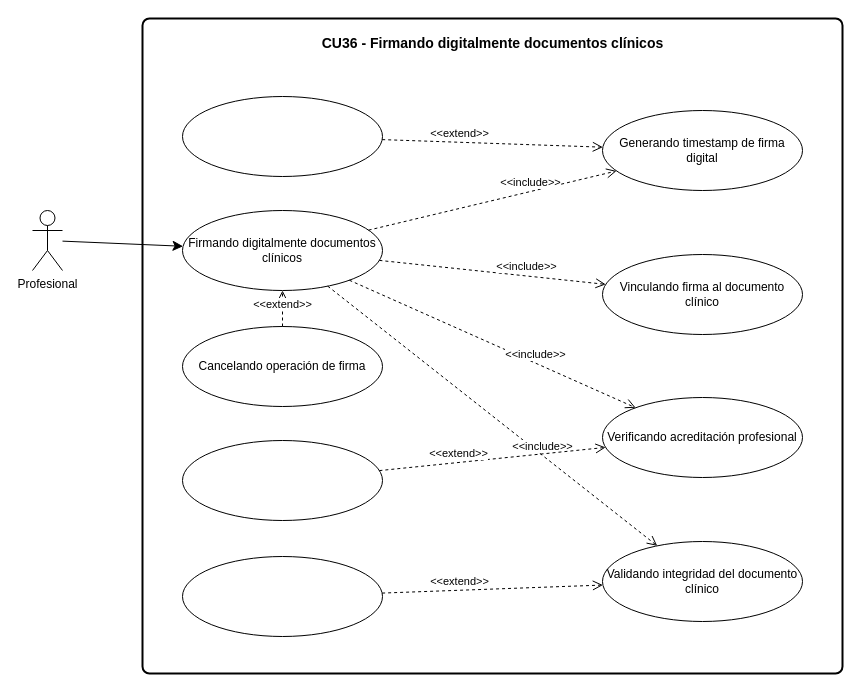
Image size: 860x691. Some labels were removed from this diagram. The shapes that lost their labels are listed below. From the top down, each one's centre as x and y in pixels, then its label:
At (282,136): "Reintentando sellado por sincronización horaria".
At (282,480): "Actualizando acreditación profesional".
At (282,596): "Completando campos obligatorios faltantes".
